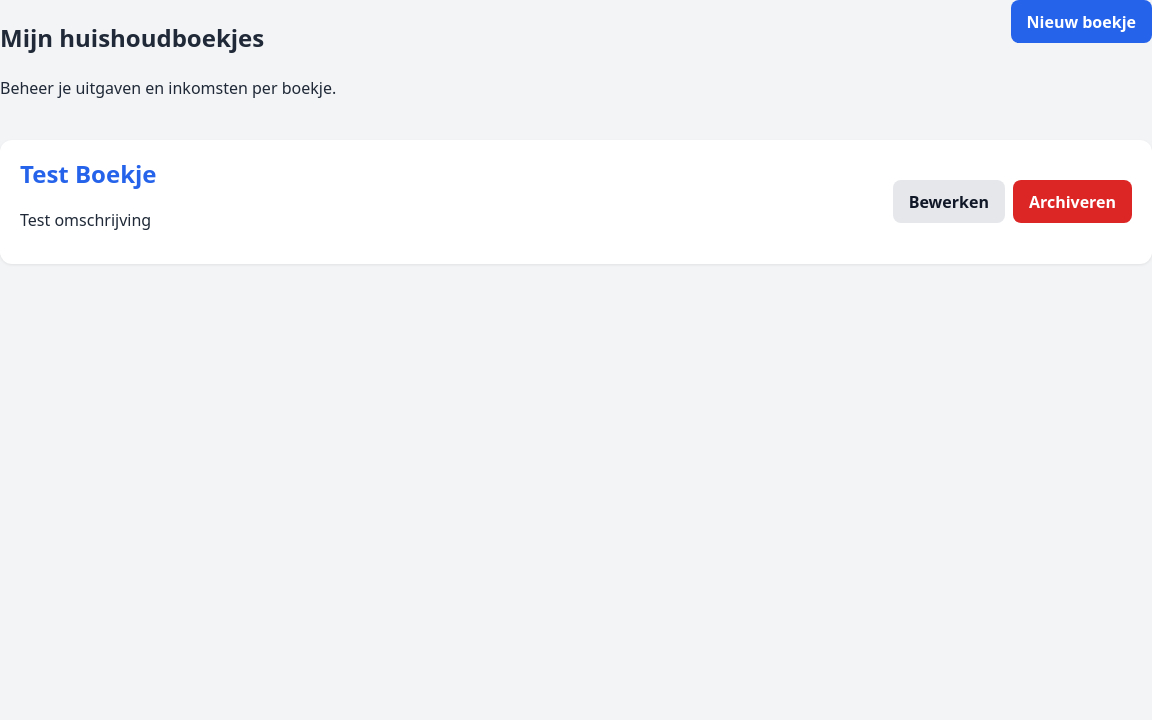
BooksPage › opens archive confirmation dialog
Click the button "Archiveren" at point(1072, 202), box [1013,180,1132,223]
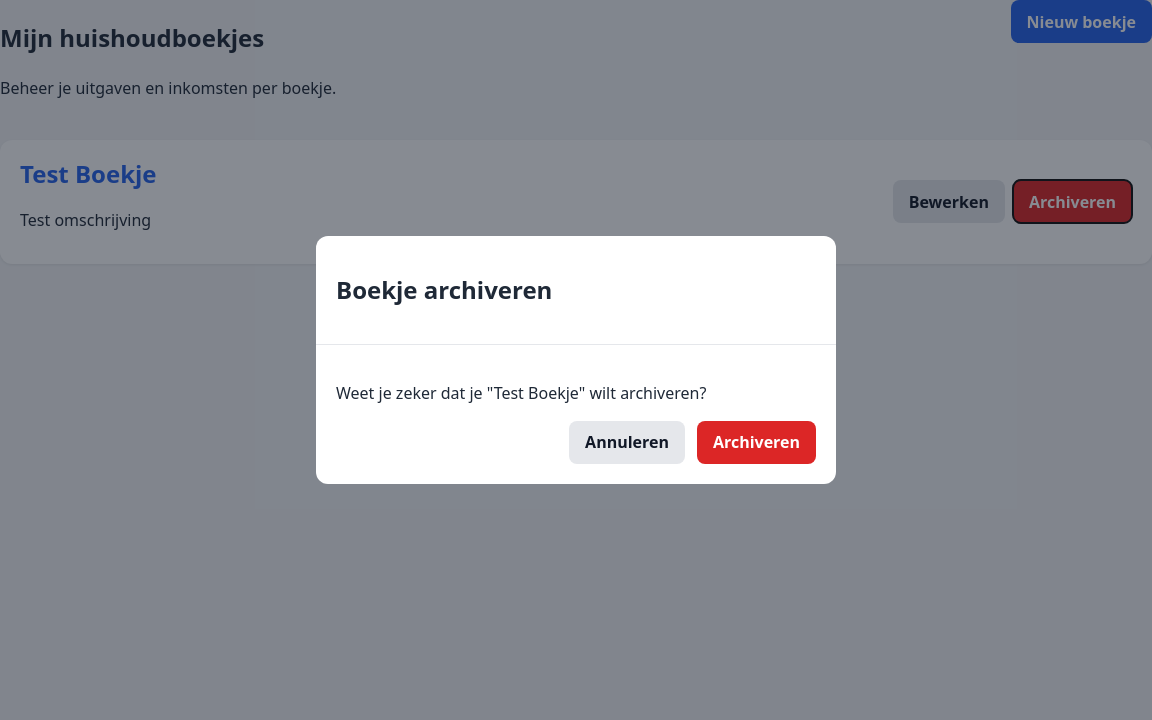
Expected: the text "Weet je zeker dat je \"Test Boekje\" wilt archiveren?" is shown, [336,382,706,404]
